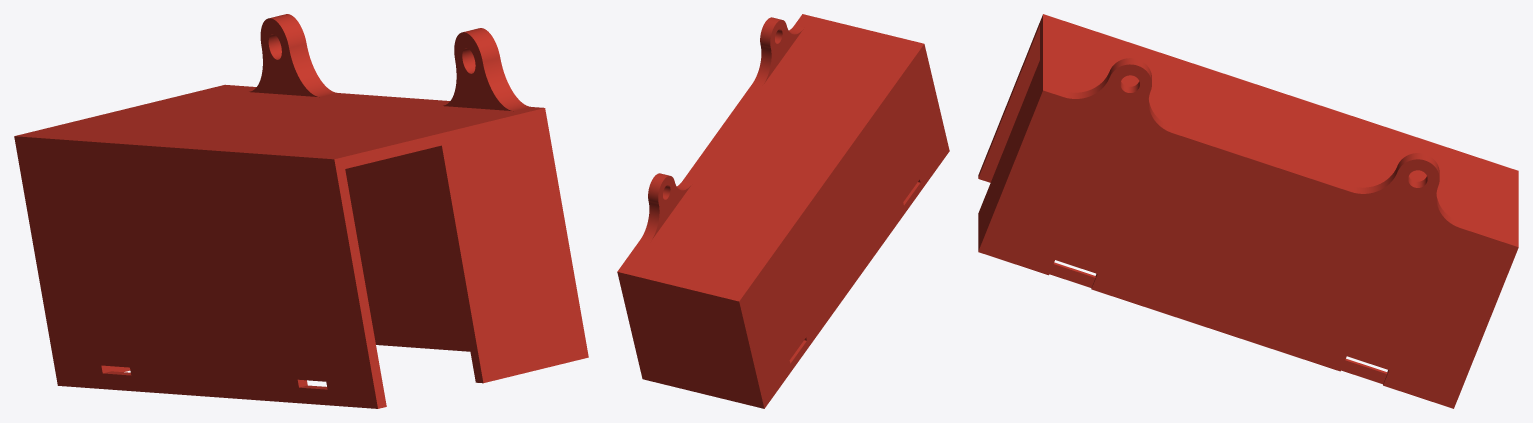
Rendered from EBoxNewAsm_stp_1_PCBatHolder_stp_1_solid1.obj.
3 views of the same model, side by side, from view 1: azimuth 30°, elevation 25°; view 2: azimuth 150°, elevation 25°; view 3: azimuth 270°, elevation 25° (orthographic). The views are drawn at different scales.
Parts seen in each view (by area): view 1: mesh5679, mesh5661, mesh5654, mesh5674, mesh5659, mesh5650, mesh5662, mesh5656, mesh5651, mesh5657, mesh5652; view 2: mesh5654, mesh5679, mesh5655, mesh5650, mesh5659, mesh5658, mesh5653, mesh5652, mesh5657; view 3: mesh5666, mesh5654, mesh5661, mesh5680, mesh5673, mesh5678.
Part boxes in pixels (x1,y1,x2,y2): mesh5679: (14, 136, 377, 408); mesh5661: (334, 108, 588, 408); mesh5654: (14, 84, 543, 159); mesh5674: (345, 147, 470, 351); mesh5659: (249, 18, 319, 97); mesh5650: (443, 32, 513, 111); mesh5662: (434, 145, 483, 383); mesh5656: (289, 44, 336, 97); mesh5651: (483, 58, 530, 110); mesh5657: (270, 14, 306, 47); mesh5652: (463, 28, 500, 61); mesh5654: (617, 14, 923, 301); mesh5679: (739, 44, 949, 408); mesh5655: (617, 272, 764, 408); mesh5650: (764, 20, 803, 83); mesh5659: (652, 176, 690, 239); mesh5658: (640, 201, 659, 242); mesh5653: (752, 45, 771, 86); mesh5652: (760, 17, 781, 47); mesh5657: (648, 173, 669, 203); mesh5666: (978, 64, 1518, 408); mesh5654: (1043, 14, 1518, 246); mesh5661: (978, 15, 1042, 250); mesh5680: (978, 25, 1039, 182); mesh5673: (1341, 360, 1386, 384); mesh5678: (1049, 264, 1095, 287).
Size of the model in its own units: 0.06 by 0.1262 by 0.1794.
